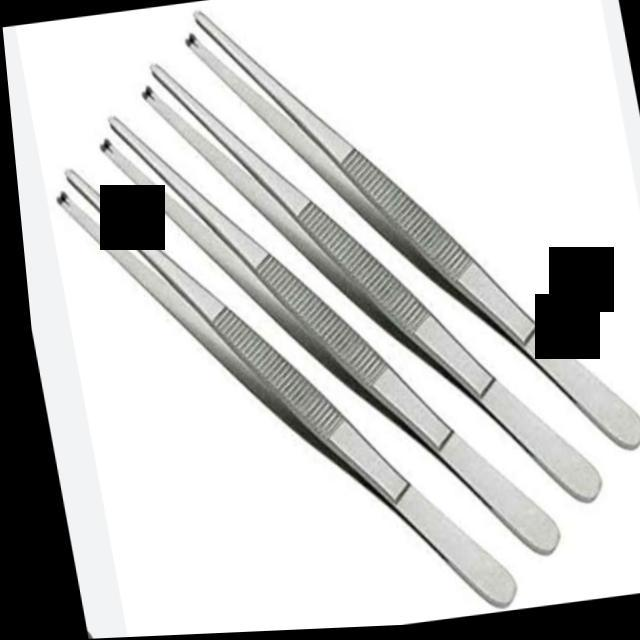Disscting Forceps -tooth-: (80, 68, 557, 606), (128, 16, 596, 551), (33, 120, 510, 639), (177, 0, 639, 499)
